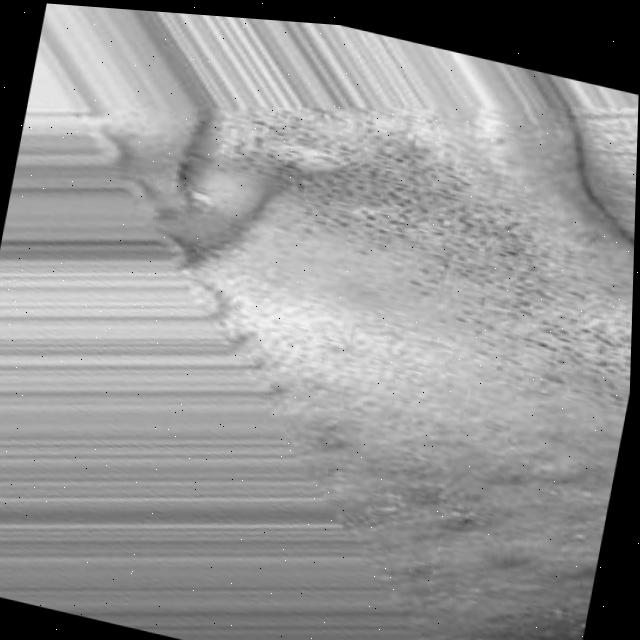Rosacea: (286, 345, 626, 598)
